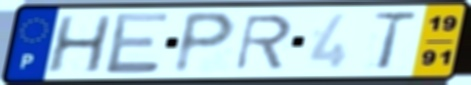4: (305, 11, 354, 73)
E: (103, 10, 173, 77)
H: (43, 13, 115, 75)
P: (169, 10, 240, 77)
R: (232, 12, 295, 72)
T: (370, 9, 420, 72)
